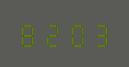eight: (18, 20, 40, 47)
three: (87, 20, 109, 47)
two: (41, 20, 63, 47)
zero: (64, 20, 86, 47)
